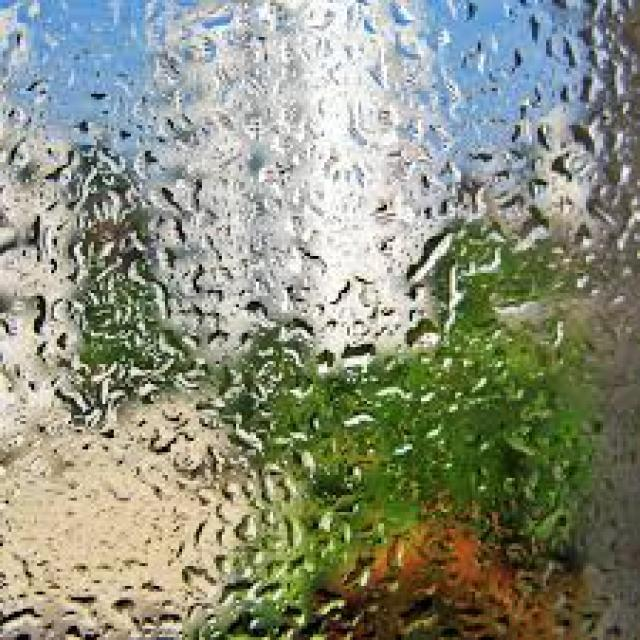raindrop: (398, 230, 463, 284), (126, 258, 178, 325), (61, 156, 104, 222), (510, 206, 560, 258), (221, 409, 269, 456), (212, 571, 271, 609), (216, 604, 277, 640), (564, 114, 612, 159), (398, 315, 450, 356), (29, 212, 64, 268), (44, 141, 82, 191), (0, 600, 51, 637), (286, 446, 330, 484), (278, 312, 324, 348), (28, 291, 62, 339), (46, 386, 96, 418), (544, 145, 583, 186), (180, 560, 223, 597), (256, 462, 290, 504), (154, 182, 188, 222), (246, 298, 284, 332), (340, 341, 380, 373), (211, 362, 245, 399), (286, 371, 322, 404), (202, 326, 235, 353), (316, 346, 342, 380)
